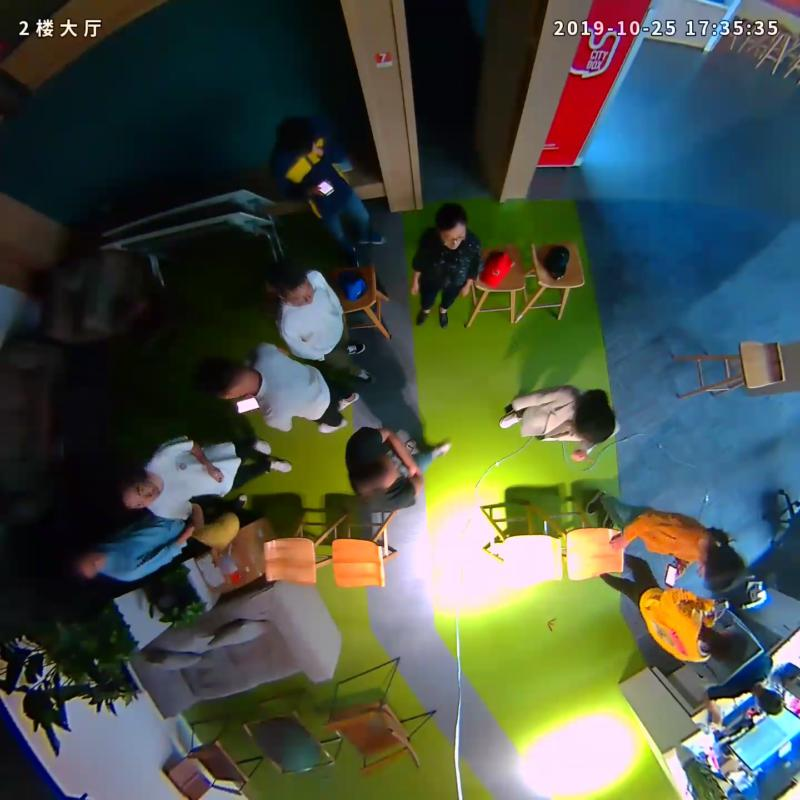head: (196, 354, 253, 401), (568, 388, 615, 444), (350, 451, 403, 498), (697, 543, 744, 592), (269, 258, 316, 307), (107, 470, 163, 511), (276, 112, 317, 158), (706, 624, 747, 667), (61, 546, 105, 582), (434, 202, 467, 249)
